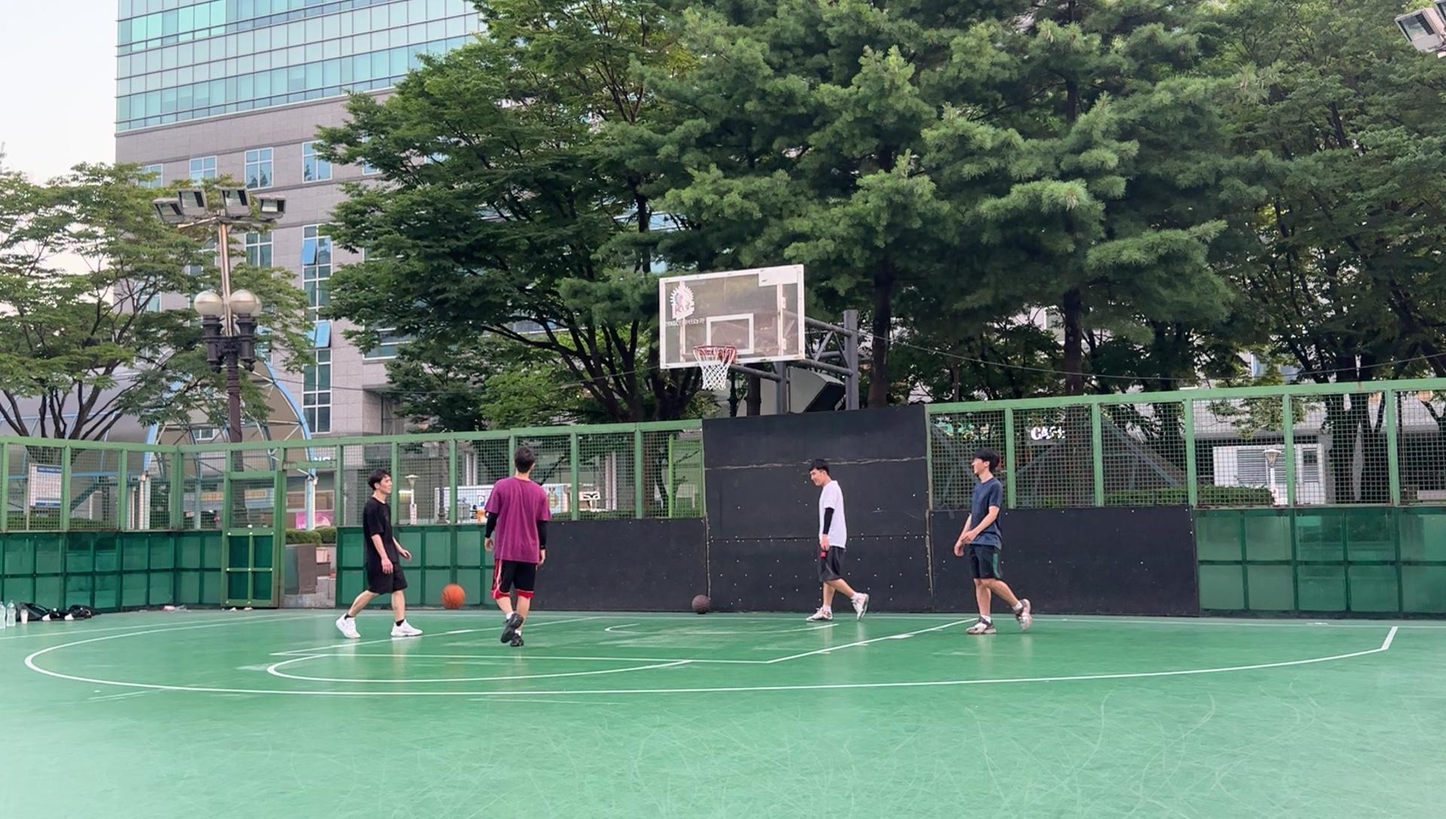ball: (441, 583, 466, 609), (691, 593, 712, 615)
human: (335, 469, 423, 640), (953, 449, 1032, 635), (484, 447, 551, 647), (805, 458, 871, 623)
rim: (692, 345, 737, 390)
